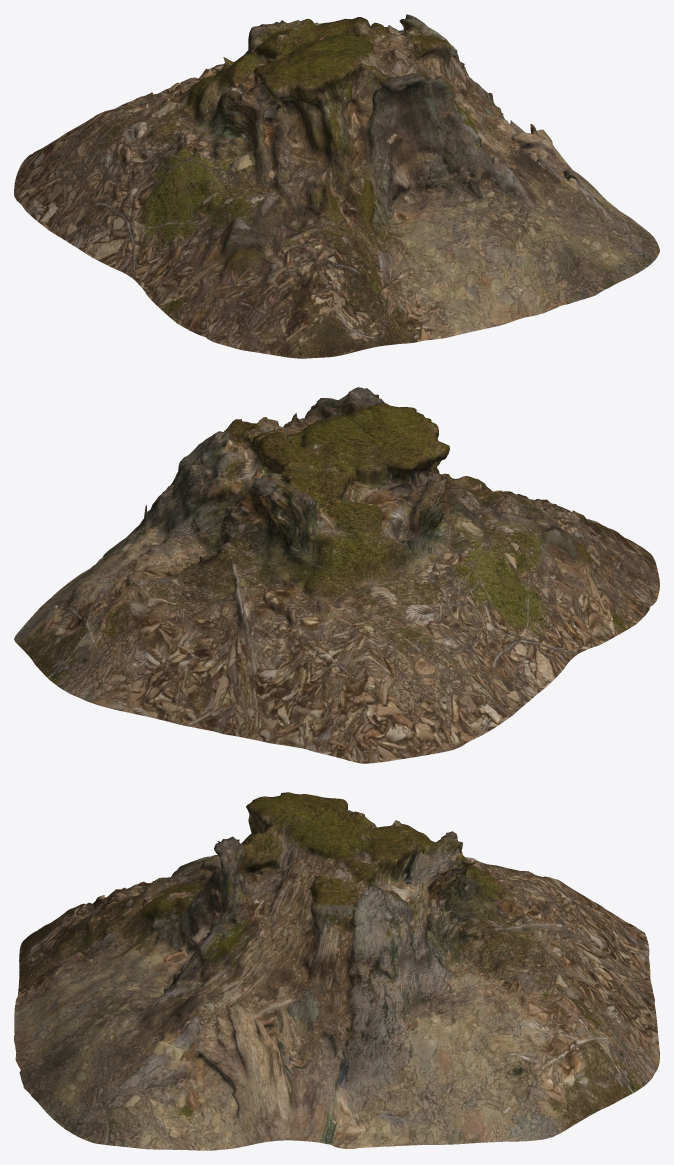
File: tree_stump.glb
3 views of the same model, one above another, from view 1: azimuth 30°, elevation 25°; view 2: azimuth 150°, elevation 25°; view 3: azimuth 270°, elevation 25° (orthographic). The views are drawn at different scales.
Parts seen in each view (by area): view 1: tree_stump_01; view 2: tree_stump_01; view 3: tree_stump_01.
Boxes of the visible parts, box(x1,y1,x2,y2) form: tree_stump_01: box(14, 14, 659, 358); tree_stump_01: box(14, 387, 659, 763); tree_stump_01: box(14, 792, 659, 1150).
Bounding box in the file's own units: 1.43 × 0.5727 × 1.59.
1 material, 1 textured.
